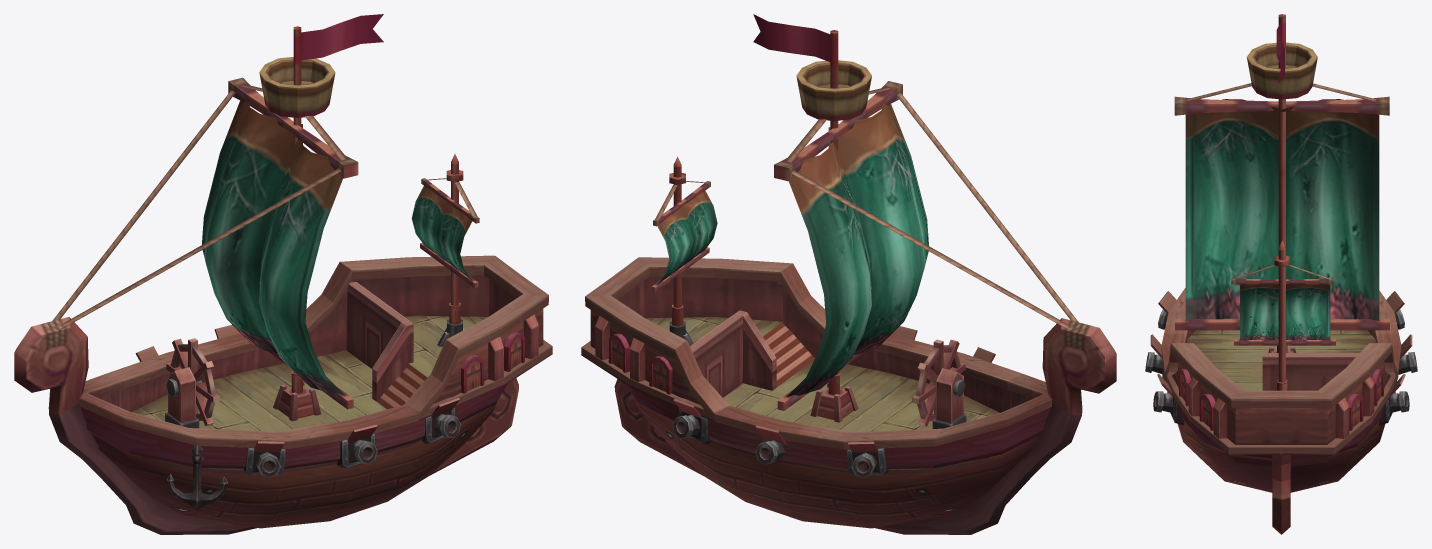
File: chuang.FBX
The picture shows the model from 3 angles, left to right: view 1: azimuth 30°, elevation 25°; view 2: azimuth 150°, elevation 25°; view 3: azimuth 270°, elevation 25°; orthographic projection. The views are drawn at different scales.
Parts seen in each view (by area): view 1: Object017; view 2: Object017; view 3: Object017.
Boxes of the visible parts, bbox=[...] form: Object017: bbox=[14, 14, 552, 534]; Object017: bbox=[581, 14, 1116, 534]; Object017: bbox=[1145, 14, 1417, 534].
Size of the model in its own units: 4009 by 3692 by 1987.
